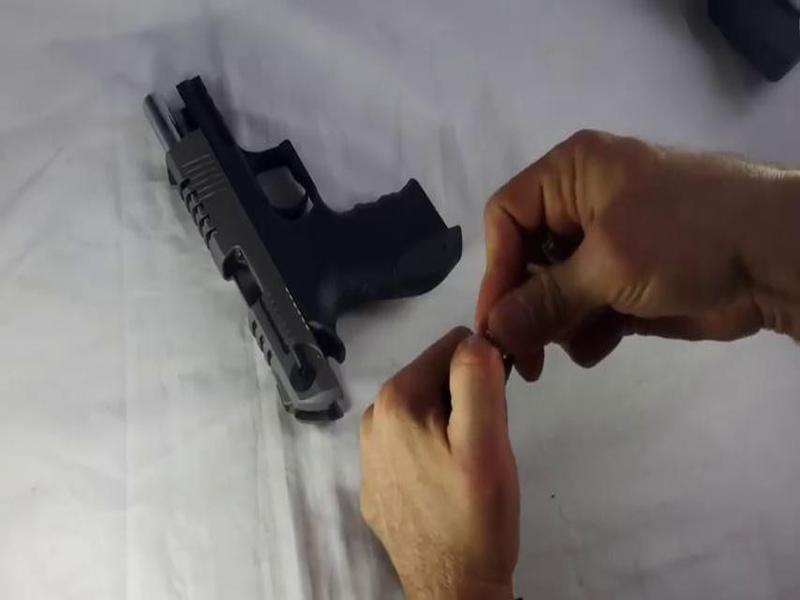Pistola: (131, 53, 463, 423)
